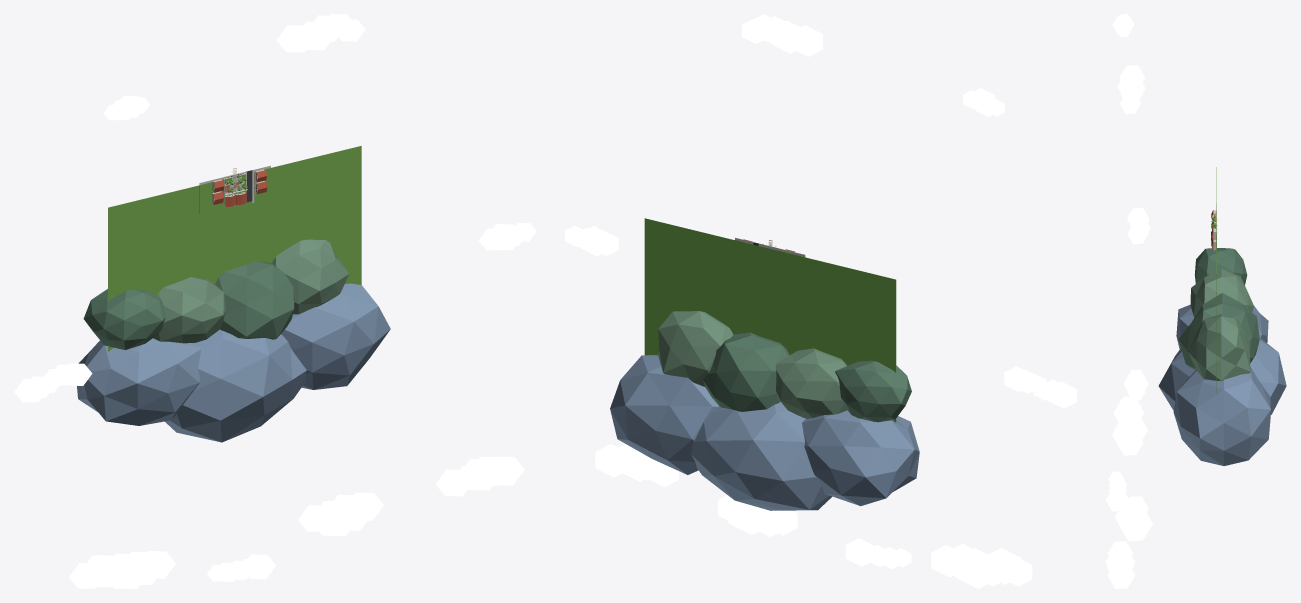
The model's file is DC_Praca.fbx.
3 renders of one model, left to right at view 1: azimuth 30°, elevation 25°; view 2: azimuth 150°, elevation 25°; view 3: azimuth 270°, elevation 25°, orthographic. The views are drawn at different scales.
Visible parts, largest first — view 1: DC_PRACA_ChaoFundo, DC_PRACA_Montanha1, DC_PRACA_Montanha0, DC_PRACA_Montanha2, DC_PRACA_Montanha4, DC_PRACA_Montanha6, DC_PRACA_Montanha3, DC_PRACA_Montanha5, DC_PRACA_Nuvem0, DC_PRACA_Nuvem2, DC_PRACA_Nuvem3, DC_PRACA_Nuvem6 (+4 smaller); view 2: DC_PRACA_ChaoFundo, DC_PRACA_Montanha1, DC_PRACA_Montanha0, DC_PRACA_Montanha2, DC_PRACA_Montanha4, DC_PRACA_Montanha3, DC_PRACA_Montanha5, DC_PRACA_Montanha6, DC_PRACA_Nuvem0, DC_PRACA_Nuvem6, DC_PRACA_Nuvem3, DC_PRACA_Nuvem2 (+4 smaller); view 3: DC_PRACA_Montanha2, DC_PRACA_Montanha5, DC_PRACA_Montanha1, DC_PRACA_Montanha4, DC_PRACA_Montanha3, DC_PRACA_Nuvem0, DC_PRACA_Montanha6, DC_PRACA_Nuvem2, DC_PRACA_Nuvem3, DC_PRACA_Nuvem6, DC_PRACA_Montanha0, DC_PRACA_Nuvem4 (+3 smaller).
Boxes of the visible parts, box(x1,y1,x2,y2) form: DC_PRACA_ChaoFundo: box(108, 146, 361, 351); DC_PRACA_Montanha1: box(165, 329, 306, 442); DC_PRACA_Montanha0: box(77, 338, 201, 425); DC_PRACA_Montanha2: box(281, 283, 390, 389); DC_PRACA_Montanha4: box(215, 261, 294, 339); DC_PRACA_Montanha6: box(83, 289, 165, 349); DC_PRACA_Montanha3: box(153, 277, 225, 343); DC_PRACA_Montanha5: box(272, 239, 349, 314); DC_PRACA_Nuvem0: box(69, 551, 175, 588); DC_PRACA_Nuvem2: box(298, 492, 383, 535); DC_PRACA_Nuvem3: box(435, 456, 524, 496); DC_PRACA_Nuvem6: box(276, 14, 365, 52); DC_PRACA_ChaoFundo: box(644, 218, 896, 422); DC_PRACA_Montanha1: box(691, 402, 832, 510); DC_PRACA_Montanha0: box(802, 410, 919, 506); DC_PRACA_Montanha2: box(610, 355, 718, 474); DC_PRACA_Montanha4: box(703, 332, 789, 411); DC_PRACA_Montanha3: box(776, 348, 847, 418); DC_PRACA_Montanha5: box(658, 311, 733, 386); DC_PRACA_Montanha6: box(835, 360, 911, 422); DC_PRACA_Nuvem0: box(931, 543, 1032, 588); DC_PRACA_Nuvem6: box(742, 14, 822, 56); DC_PRACA_Nuvem3: box(595, 444, 678, 487); DC_PRACA_Nuvem2: box(718, 495, 797, 536); DC_PRACA_Montanha2: box(1173, 366, 1270, 465); DC_PRACA_Montanha5: box(1188, 314, 1250, 381); DC_PRACA_Montanha1: box(1158, 338, 1286, 414); DC_PRACA_Montanha4: box(1178, 293, 1259, 369); DC_PRACA_Montanha3: box(1190, 268, 1253, 317); DC_PRACA_Nuvem0: box(1112, 396, 1147, 455); DC_PRACA_Montanha6: box(1194, 248, 1247, 284); DC_PRACA_Nuvem2: box(1115, 496, 1152, 541); DC_PRACA_Nuvem3: box(1105, 541, 1135, 588); DC_PRACA_Nuvem6: box(1117, 65, 1145, 113); DC_PRACA_Montanha0: box(1176, 304, 1268, 349); DC_PRACA_Nuvem4: box(1127, 208, 1150, 244).
Size of the model in its own units: 489 by 485 by 172.
